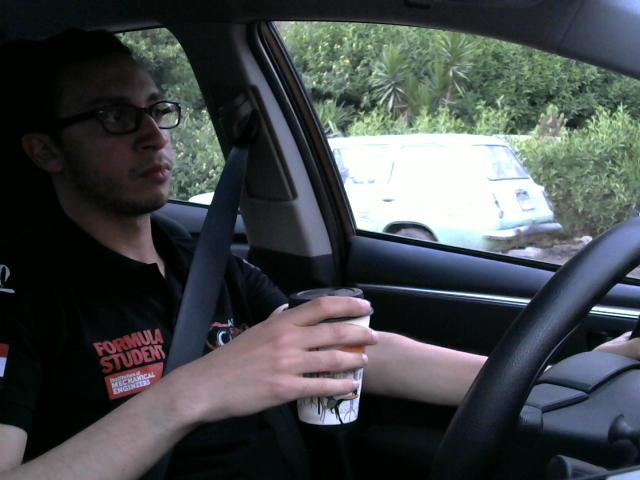Drinking: (286, 282, 372, 427)
